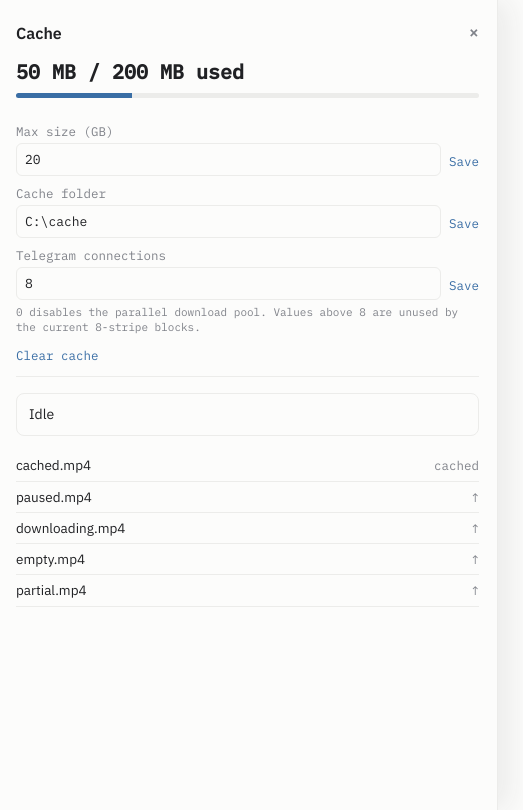
CacheDrawer › shows a cache-now button for a non-cached video and requests priority caching on click
The width and height of the screenshot is (523, 810).
Click the button with class "cache-drawer-item-queue" in the row of "empty.mp4" at coordinates (475, 559), box [472, 551, 479, 567]
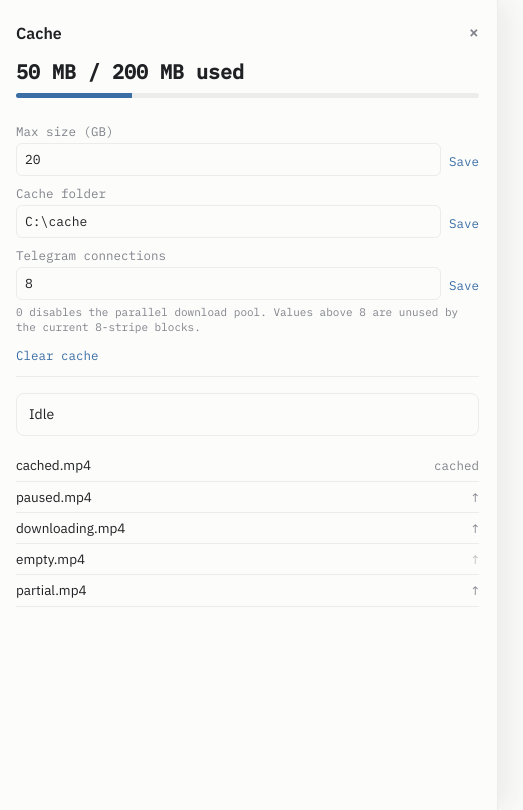
Expected: the button with class "cache-drawer-item-queue" in the row of "empty.mp4" is disabled, [472, 551, 479, 567]
